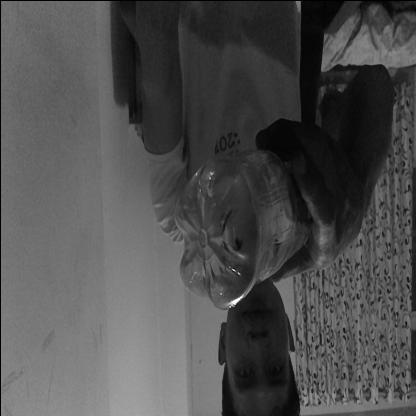plastic_bottles: (171, 142, 315, 312)
